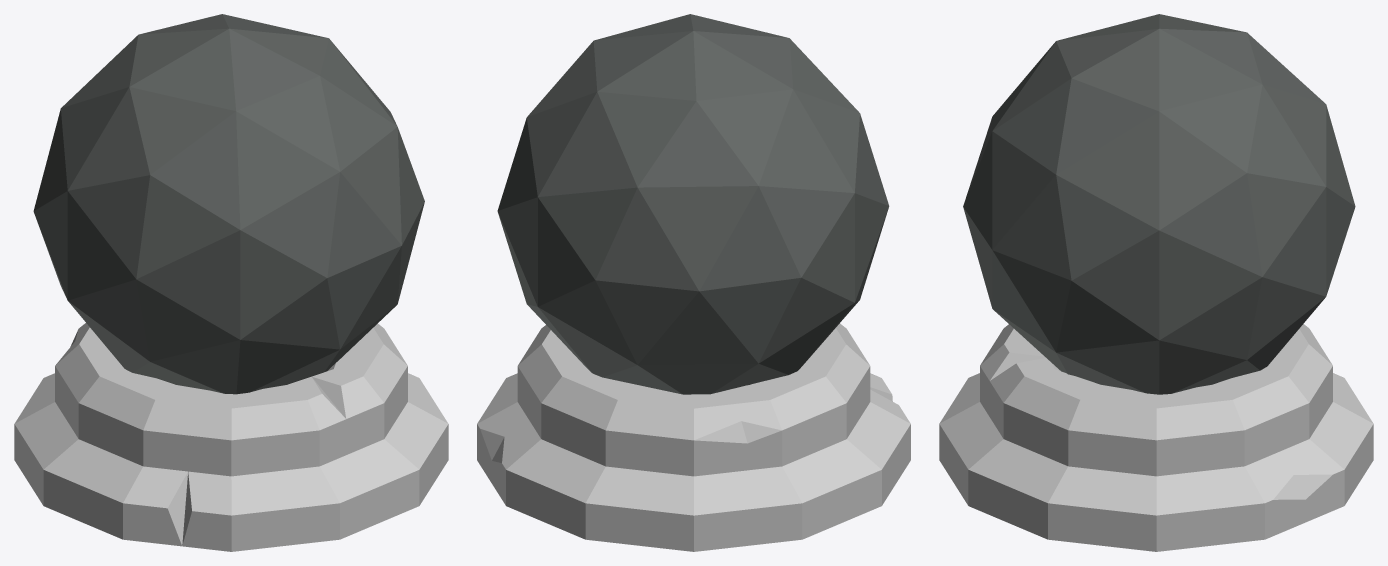
The model's file is SM_Prop_Crystal_Ball_01.fbx.
3 renders of one model, left to right at view 1: azimuth 30°, elevation 25°; view 2: azimuth 150°, elevation 25°; view 3: azimuth 270°, elevation 25°, orthographic.
Visible parts, largest first — view 1: SM_Prop_Crystal_Ball_01; view 2: SM_Prop_Crystal_Ball_01; view 3: SM_Prop_Crystal_Ball_01.
Part boxes in pixels (left/top/right/bottom): SM_Prop_Crystal_Ball_01: left=14, top=14, right=448, bottom=551; SM_Prop_Crystal_Ball_01: left=477, top=14, right=910, bottom=551; SM_Prop_Crystal_Ball_01: left=939, top=14, right=1373, bottom=551.
Bounding box in the file's own units: 32.8 × 35.91 × 32.8.
